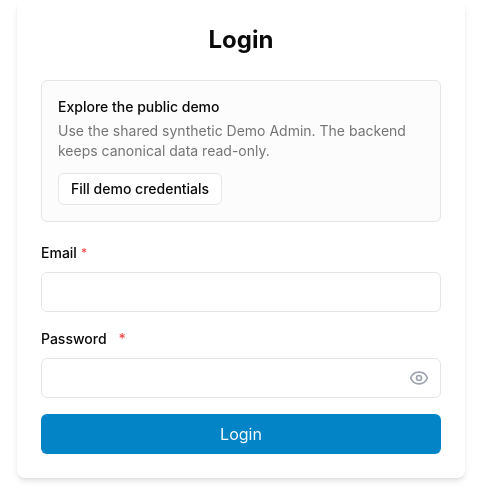
it: LoginClient › prefills the intentionally public synthetic demo credentials
Click the button "Fill demo credentials": (140, 189) x1=58 y1=173 x2=222 y2=205
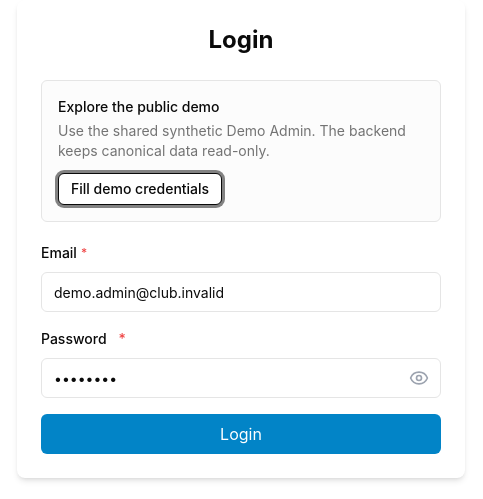
expect the field labelled "Email" holds "demo.admin@club.invalid": met, box x1=41 y1=272 x2=441 y2=312
expect the password field named "password" holds "demo1234": met, box x1=41 y1=358 x2=441 y2=398
